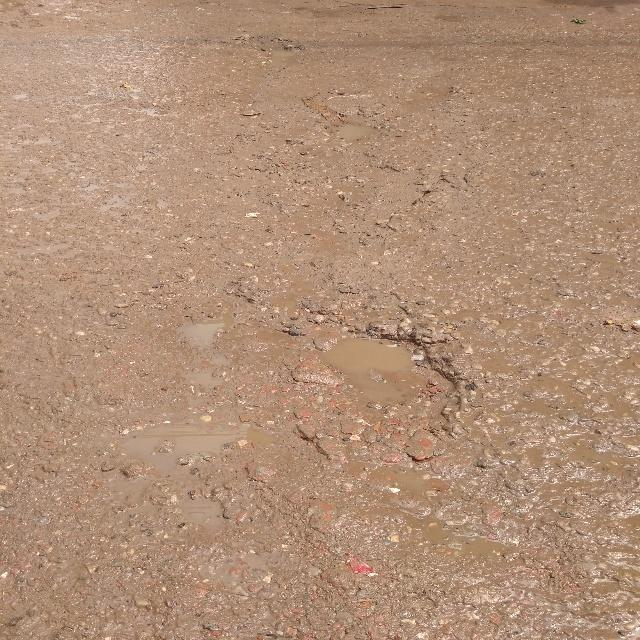Surface Erosion: (3, 14, 640, 639)
